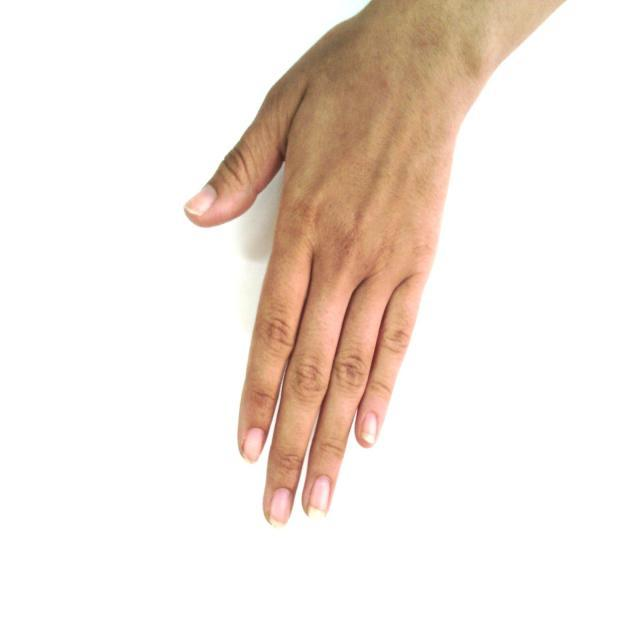Fingernail: (185, 185, 215, 216), (270, 489, 293, 529), (308, 477, 329, 520), (243, 428, 265, 463), (360, 413, 376, 444)
